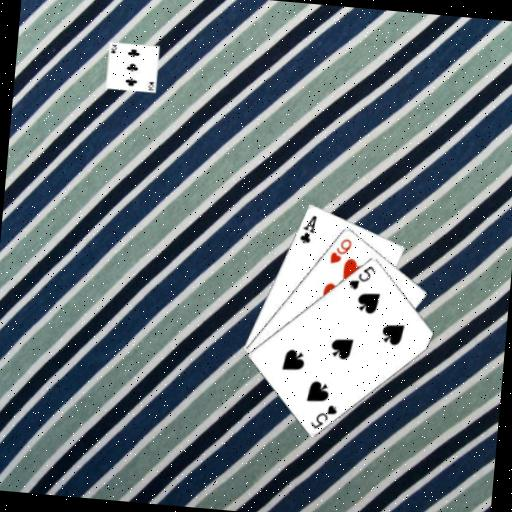5S: (345, 260, 378, 293), (308, 400, 340, 432)
9H: (326, 234, 354, 267)
AC: (296, 211, 318, 246)
